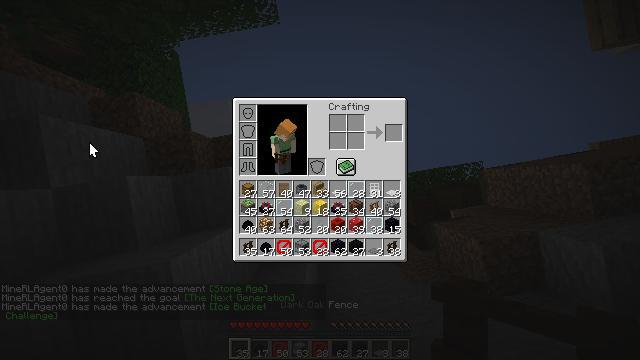cursor: (142, 89, 158, 99)
